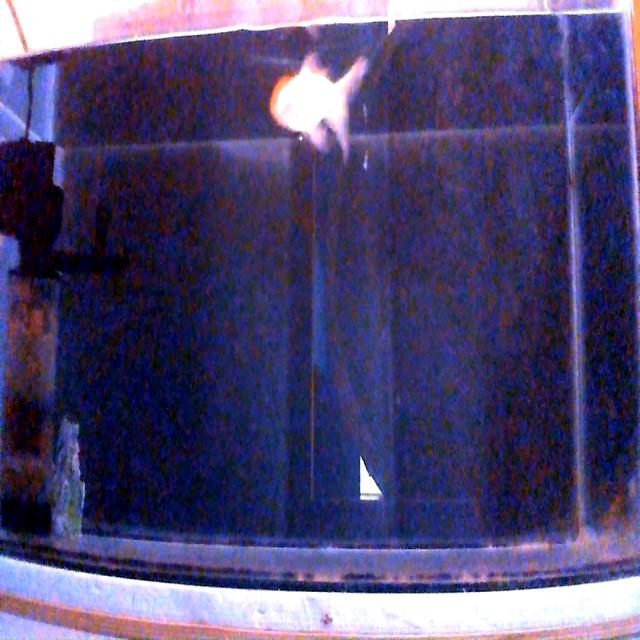fish: (268, 50, 371, 162)
